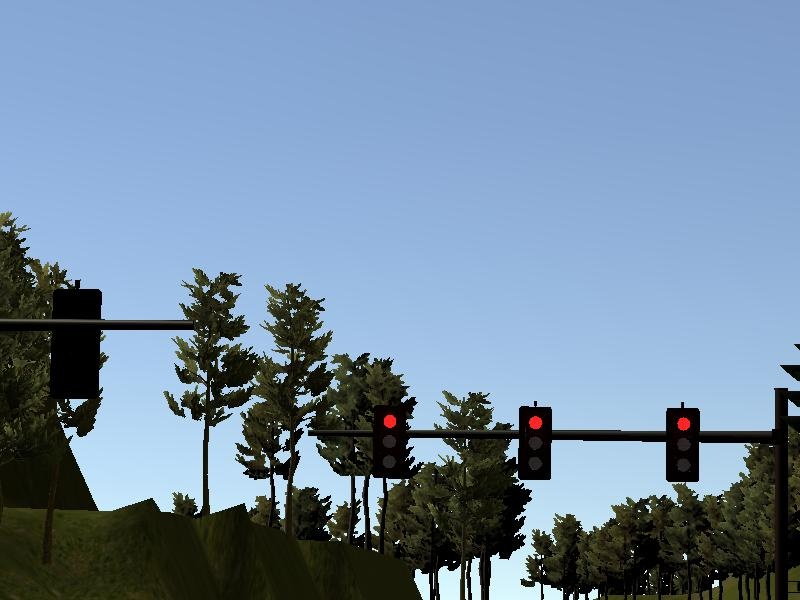red: (374, 405, 409, 478), (517, 407, 552, 480), (665, 408, 700, 481)
